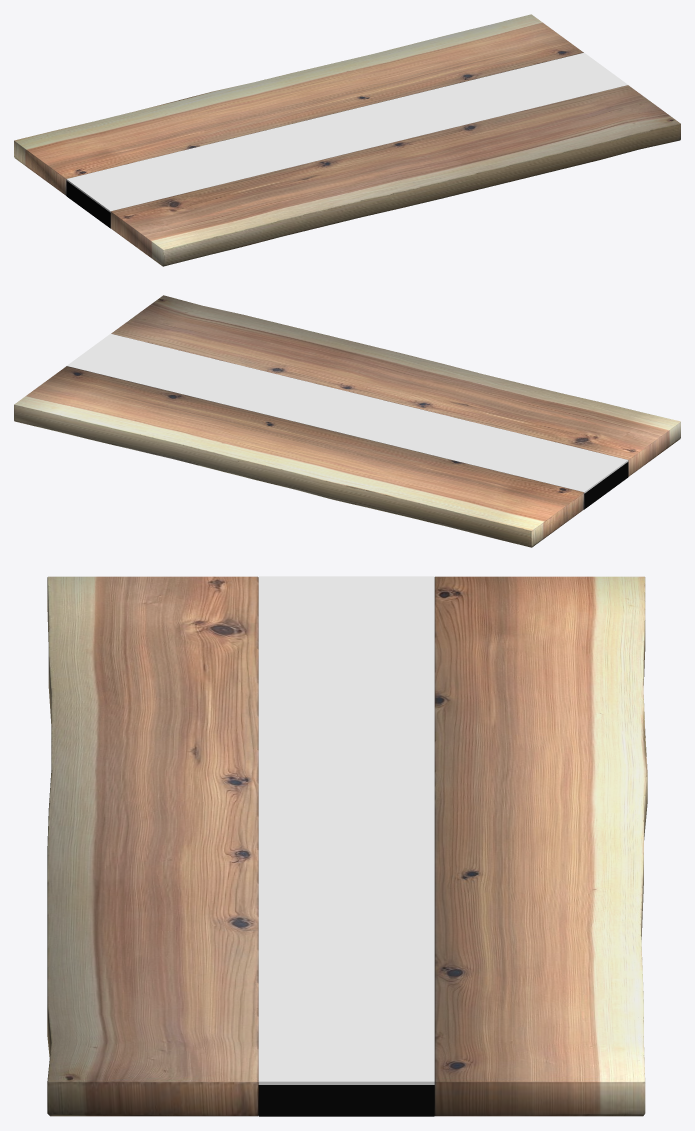
Rendered from wamodan_table_board.glb.
The picture shows the model from 3 angles, top to bottom: view 1: azimuth 30°, elevation 25°; view 2: azimuth 150°, elevation 25°; view 3: azimuth 270°, elevation 25°; orthographic projection. The views are drawn at different scales.
Parts seen in each view (by area): view 1: flat; view 2: flat; view 3: flat.
Boxes of the visible parts, <box> form: flat: <box>14,14,680,266</box>; flat: <box>14,295,680,547</box>; flat: <box>47,576,647,1116</box>.
Size of the model in its own units: 1.7 by 0.0545 by 0.8513.
Materials: 4 (1 with a texture image).
